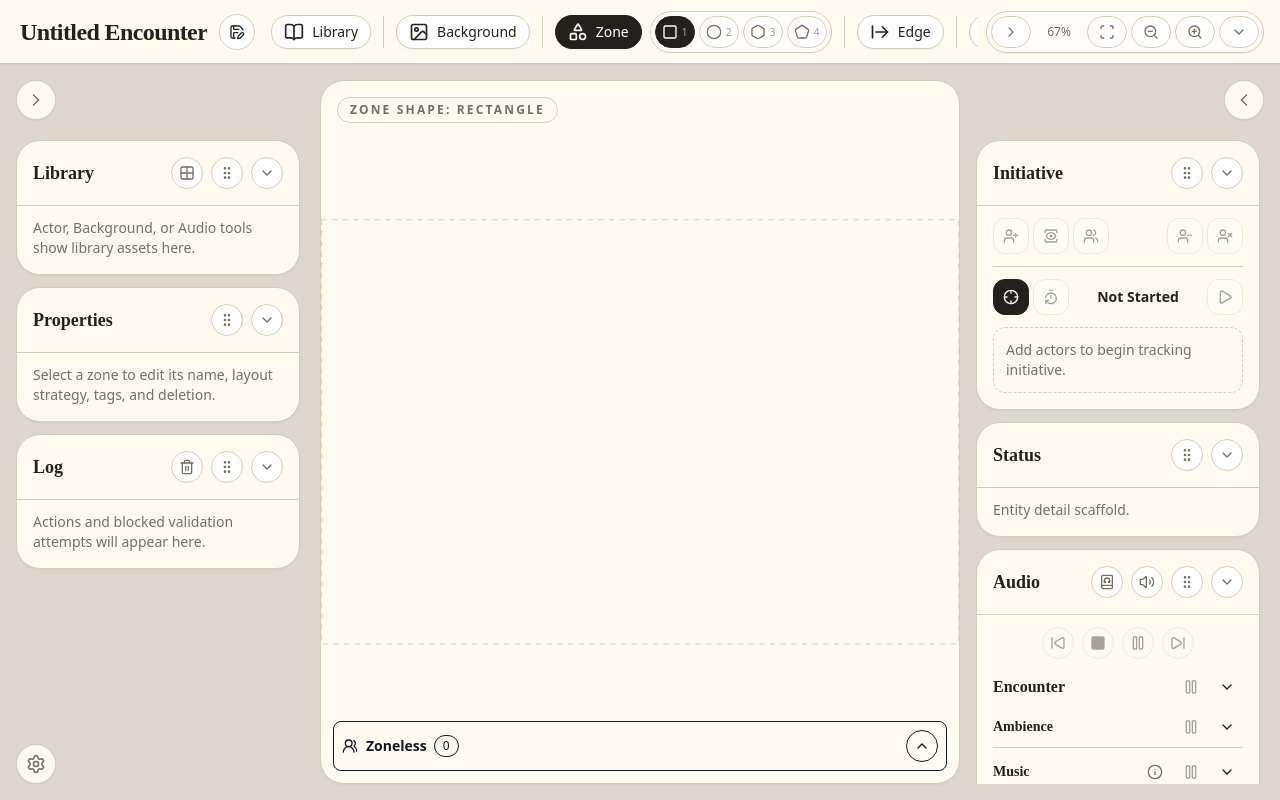
Scenario: canvas viewport navigation › opens fit options when the options control is touched
The image size is (1280, 800).
Step 1. Press the mouse on the button named "More zoom options" → (1239, 32), box x1=1219 y1=16 x2=1259 y2=48
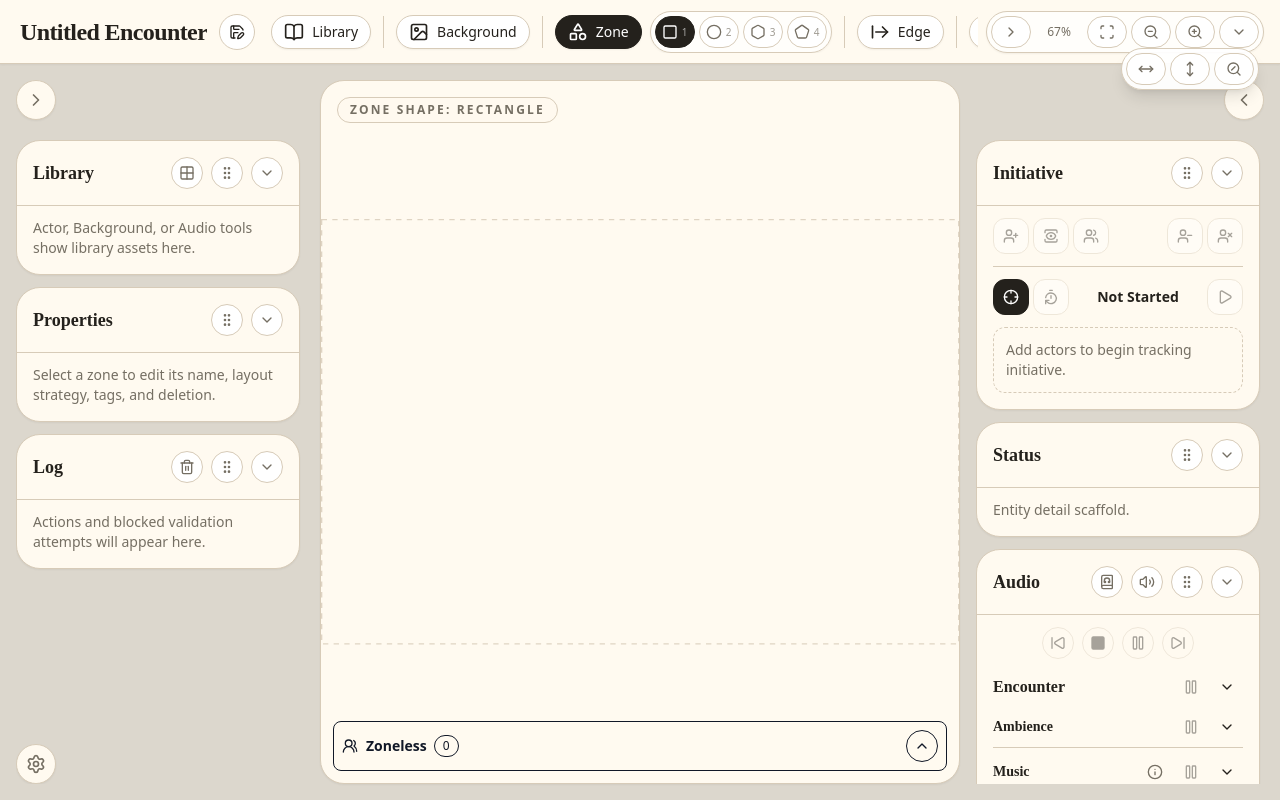
Expected: the element named "Zoom to fit options" is shown, x1=1121 y1=48 x2=1259 y2=90
